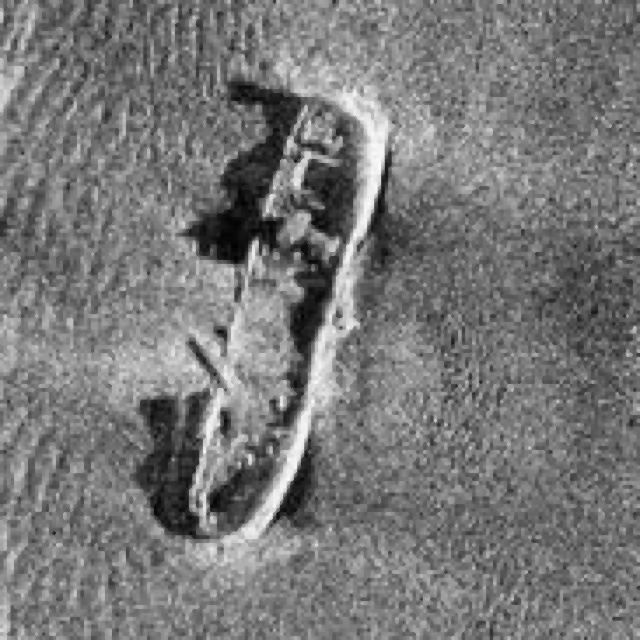Ship: (176, 78, 397, 556)
